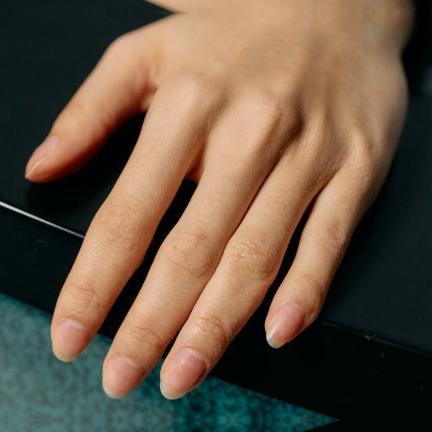Nail: (160, 347, 206, 400), (265, 303, 306, 348), (102, 355, 145, 397), (52, 318, 90, 362), (24, 134, 59, 178)
